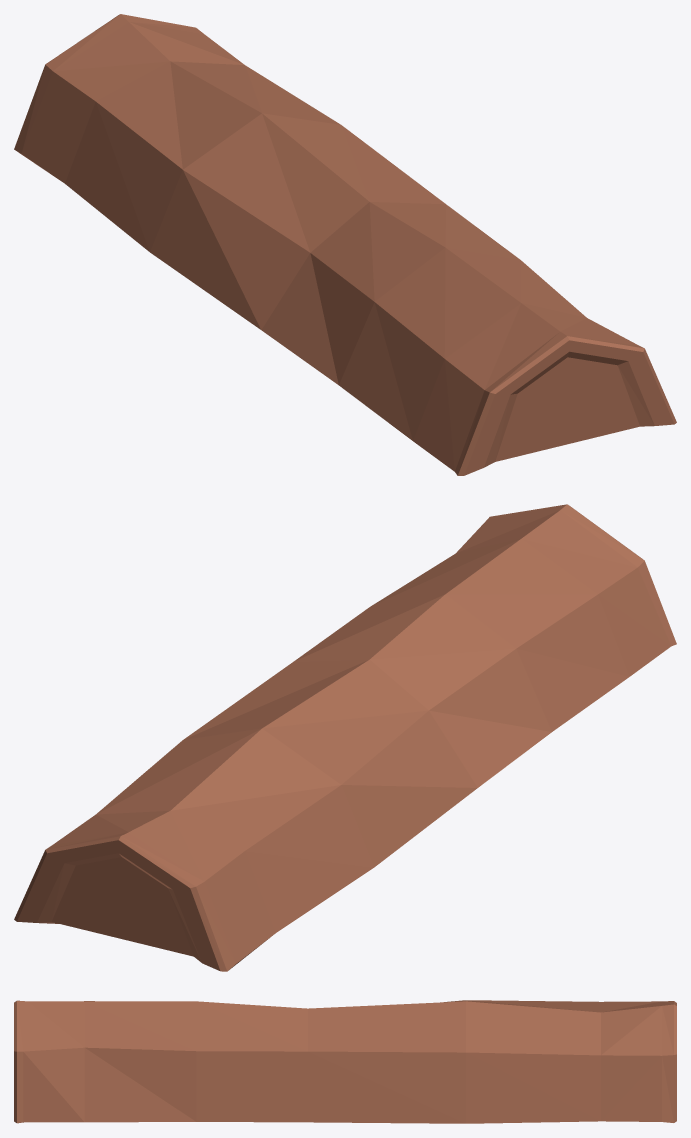
File: timber.obj
The picture shows the model from 3 angles, top to bottom: view 1: azimuth 30°, elevation 25°; view 2: azimuth 150°, elevation 25°; view 3: azimuth 270°, elevation 25°; orthographic projection. The views are drawn at different scales.
Size of the model in its own units: 2.22 by 1.08 by 7.73.
